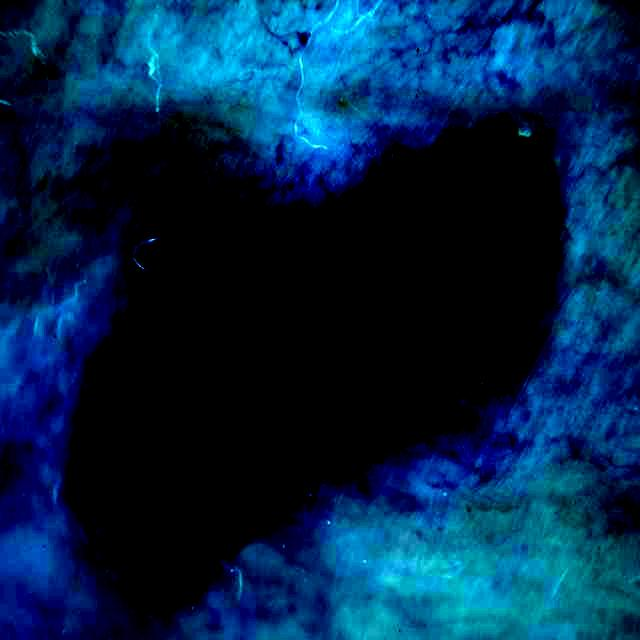BKL: (68, 127, 562, 571)
